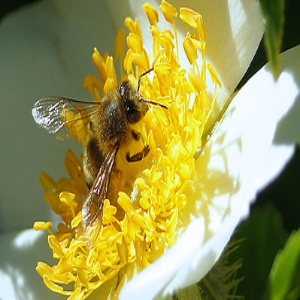bee: (32, 66, 171, 245)
